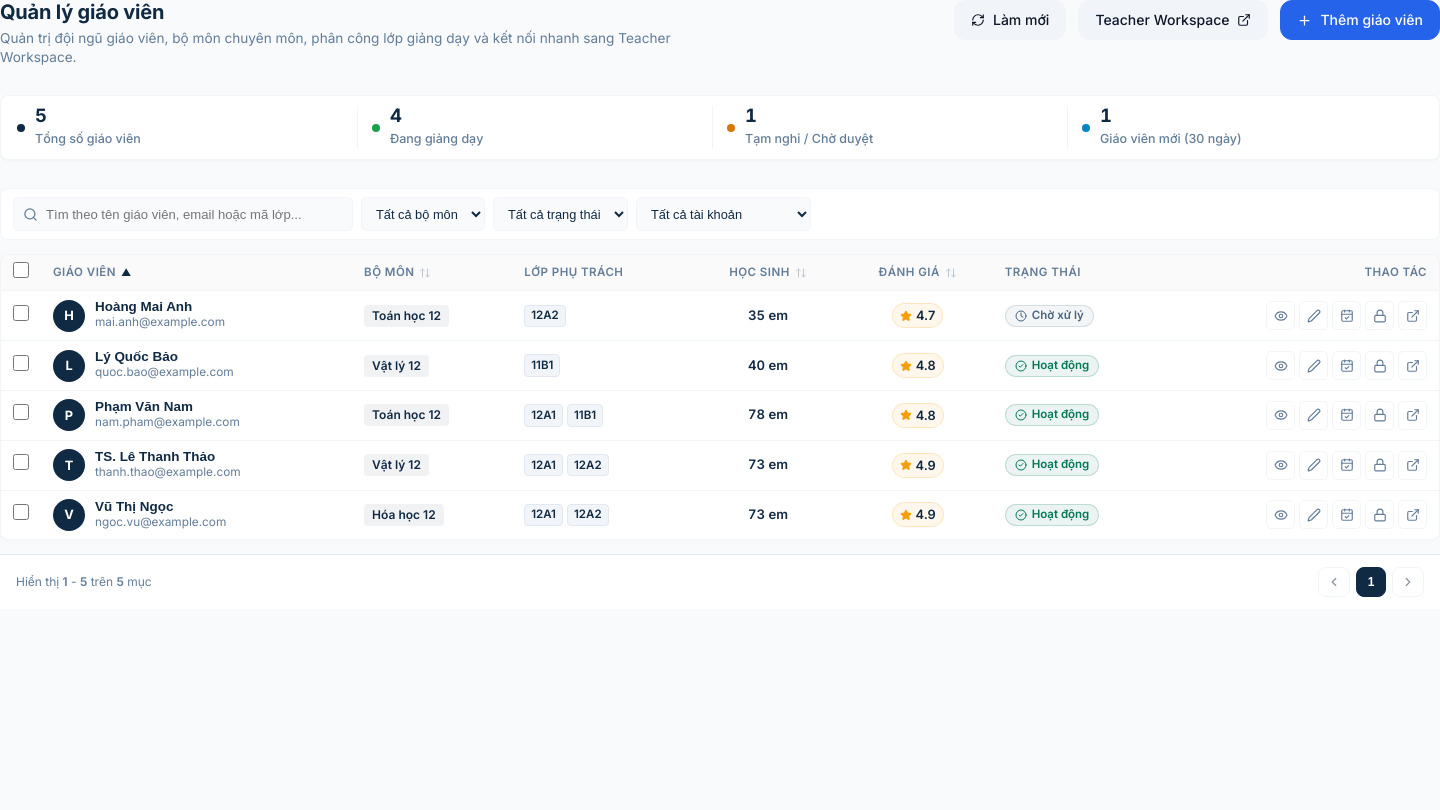
Test: AdminTeachersPage — ZhongWenHub Architecture Suite › 4. Opens CreateTeacherModal, validates required fields, and creates new teacher
Note: Click "+ Thêm giáo viên"
Click the button named "Thêm giáo viên mới" at (1360, 20), box [1280,0,1439,40]
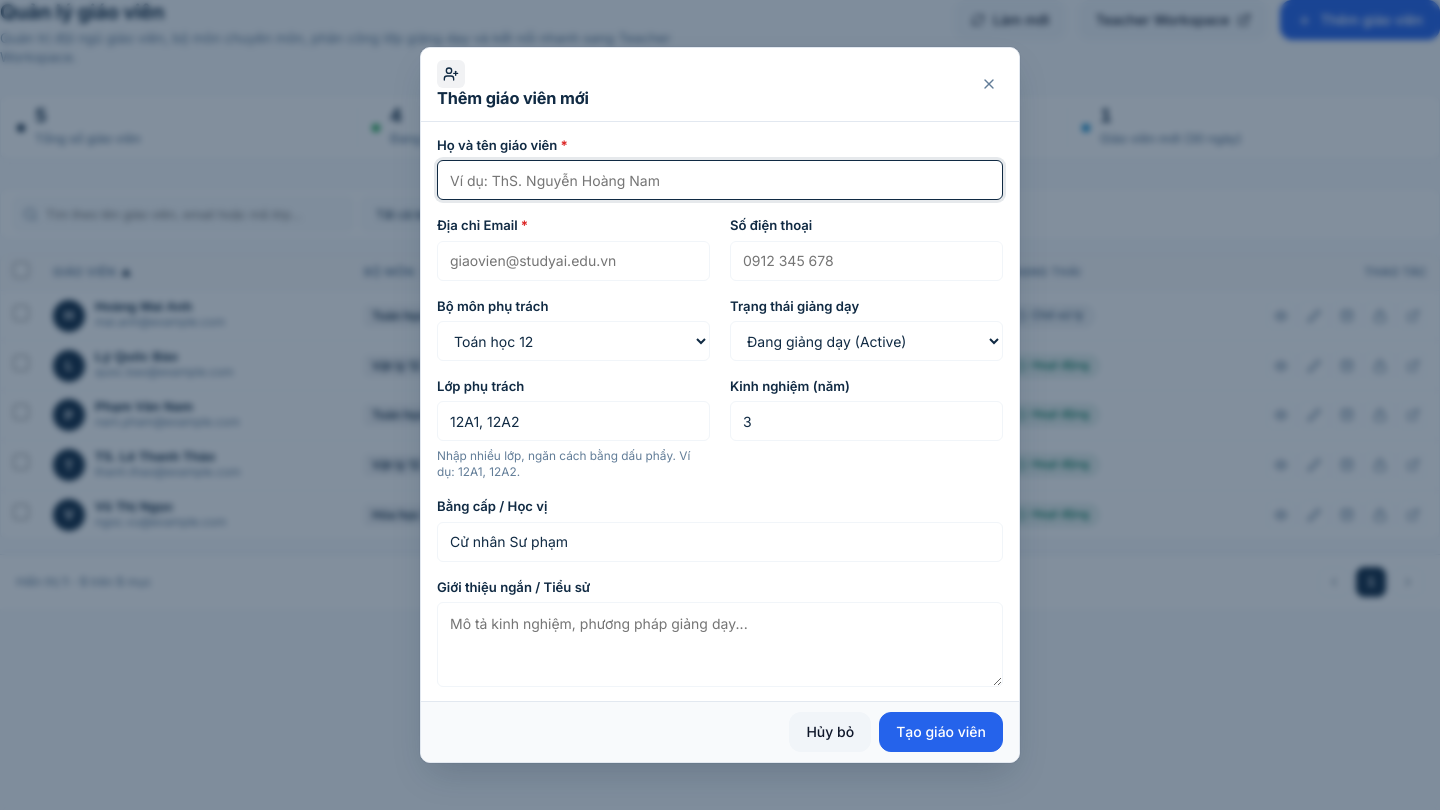
Check: the heading "Thêm giáo viên mới" is shown, box [437,88,589,109]
Note: Fill form
Type "ThS. Trần Minh Quân" into the field labelled "Họ và tên giáo viên*" at (720, 180), box [437,160,1003,200]
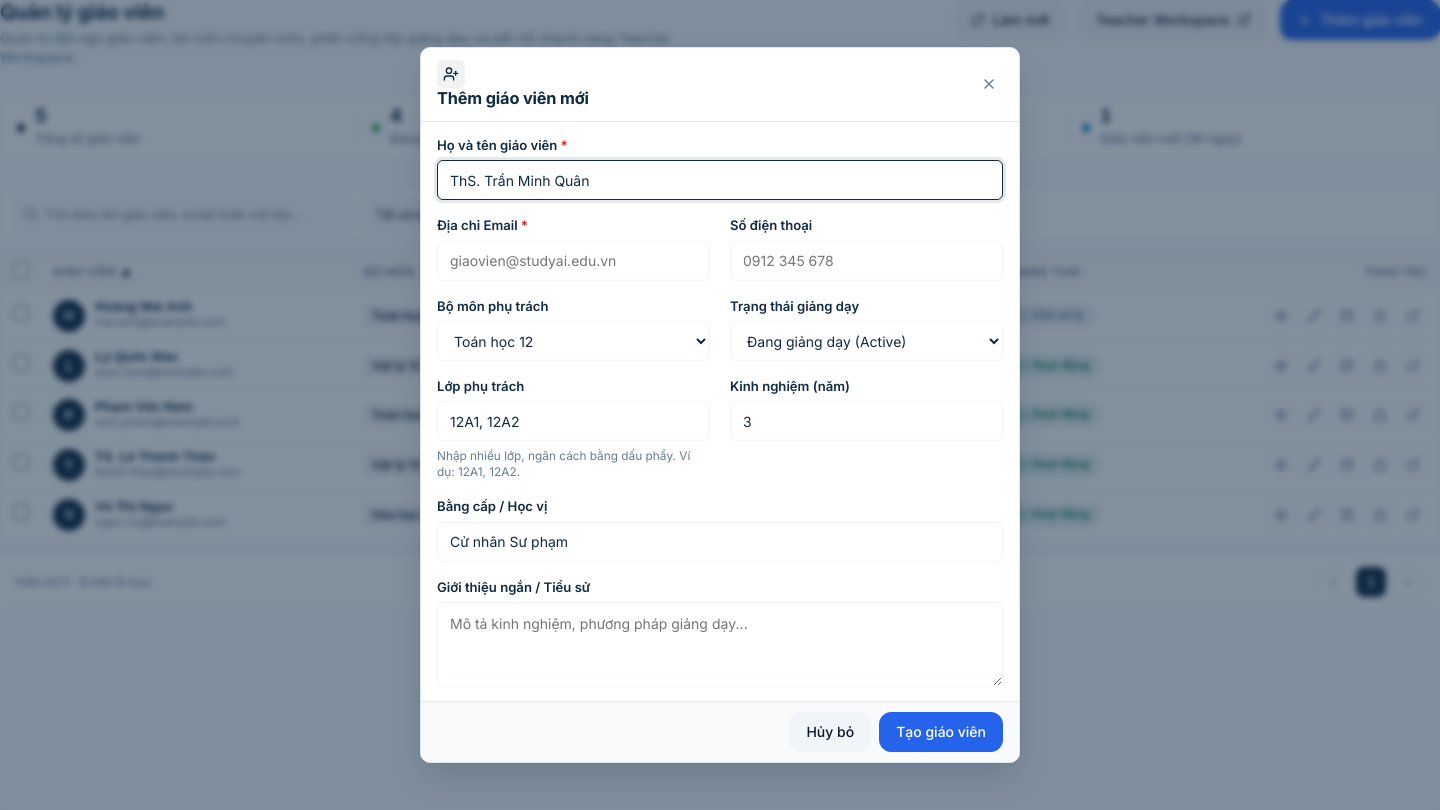
Type "minhquan@studyai.edu.vn" into the field labelled "Địa chỉ Email*" at (574, 261), box [437,241,710,281]
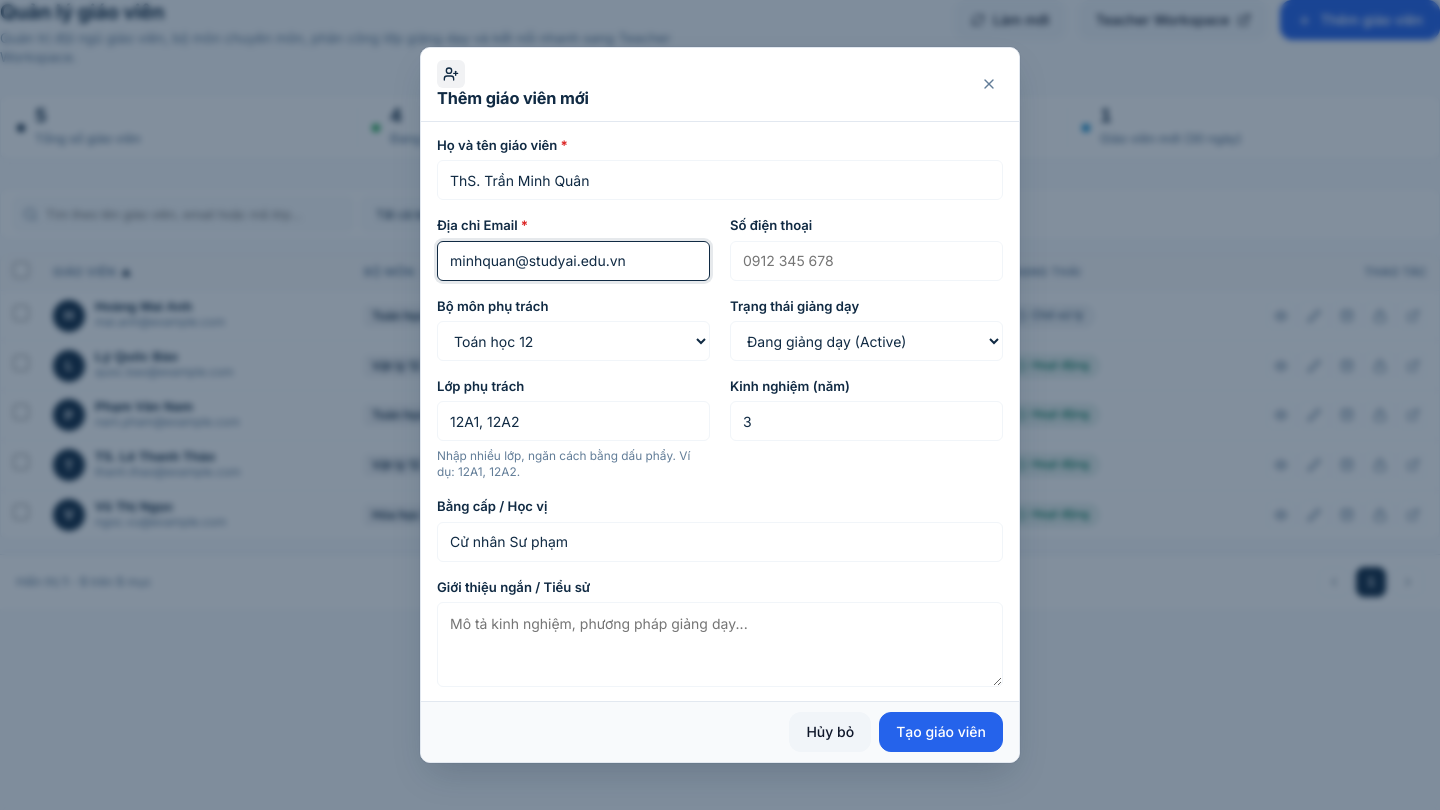
Click the button "Tạo giáo viên" at (941, 732), box [879,712,1003,752]
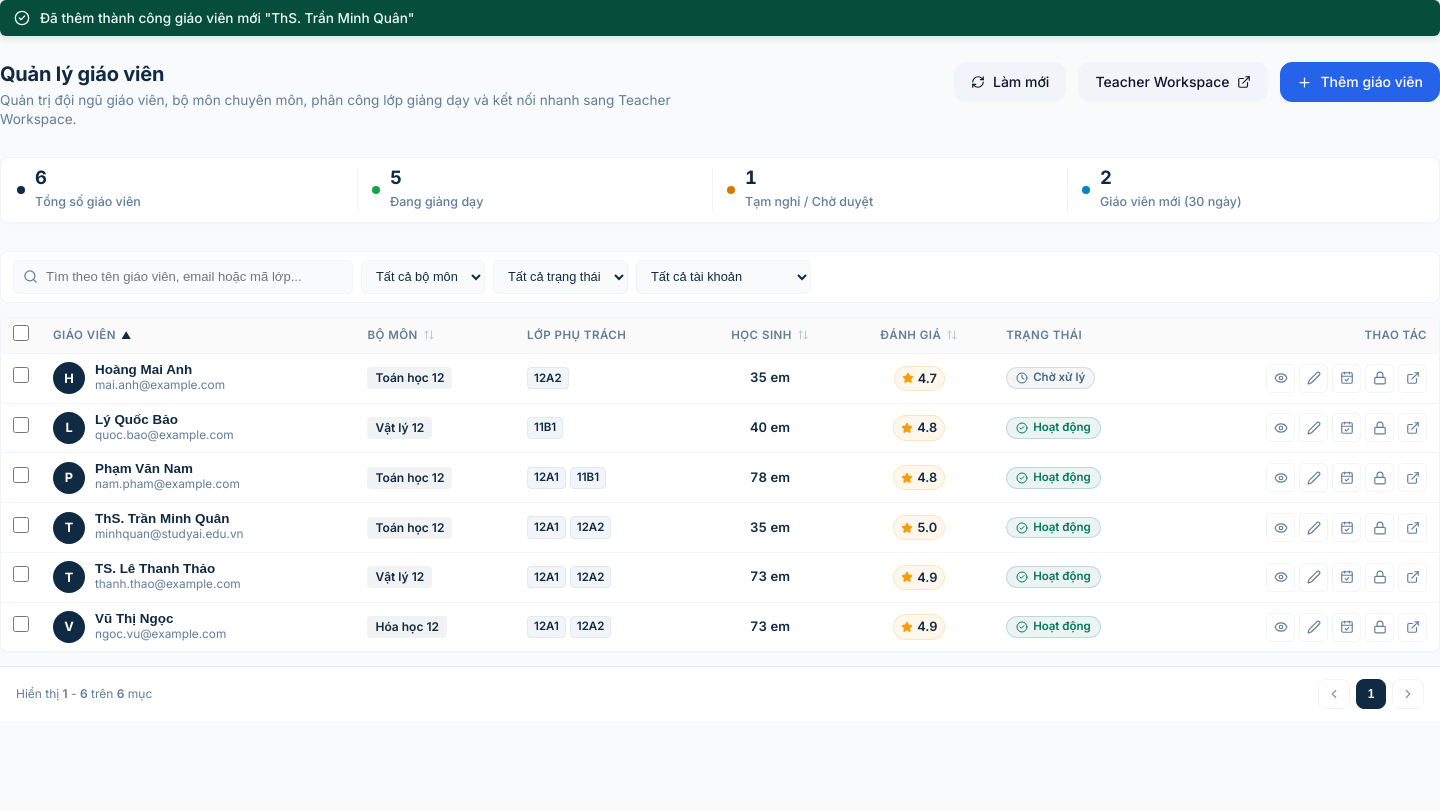
Check: the button "ThS. Trần Minh Quân" is shown, box [95,511,244,526]
Check: the text "minhquan@studyai.edu.vn" is shown, box [95,526,244,544]
